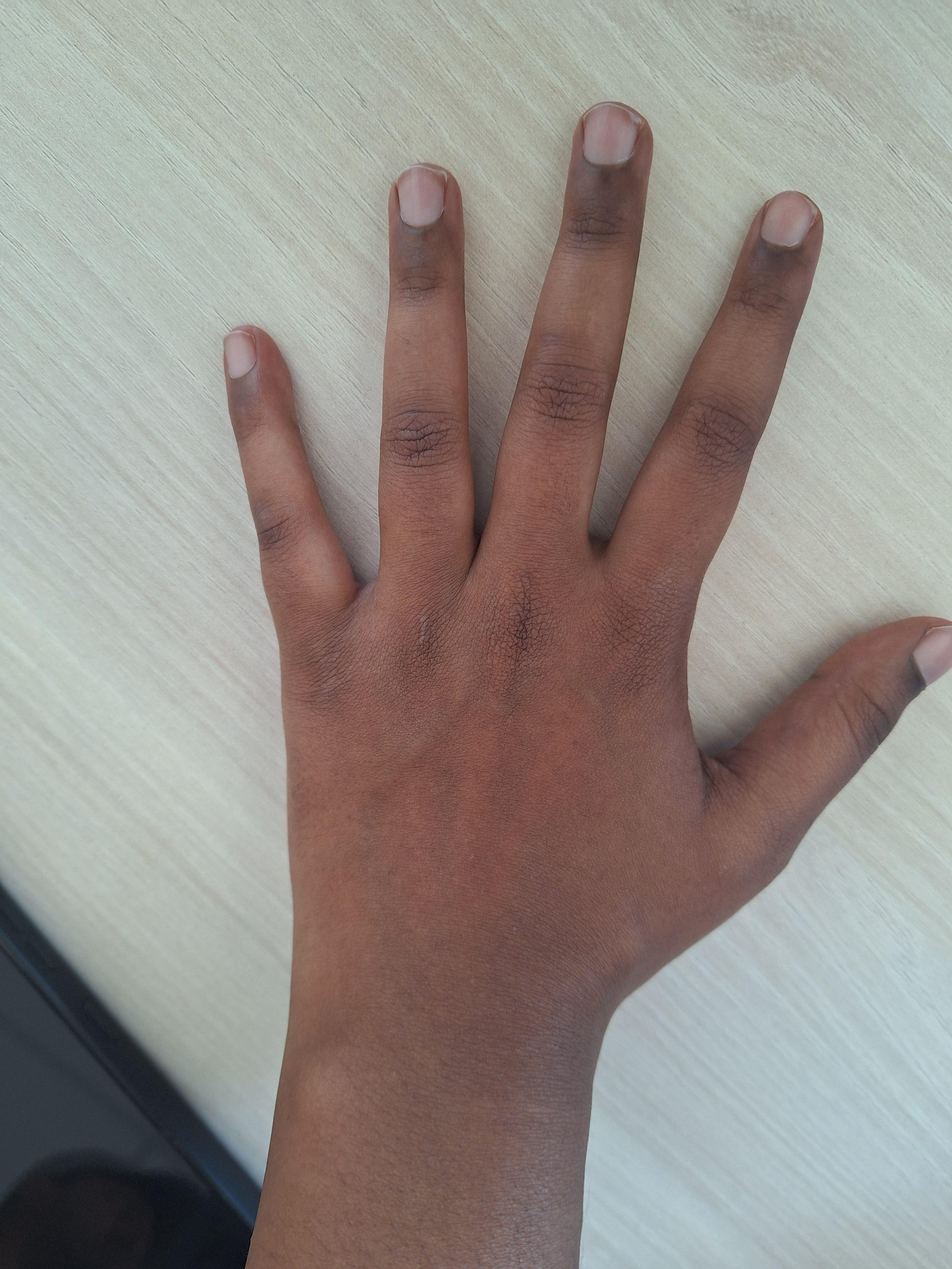Fingernail: (583, 103, 641, 166), (762, 191, 817, 246), (396, 166, 444, 227), (224, 331, 256, 379)
